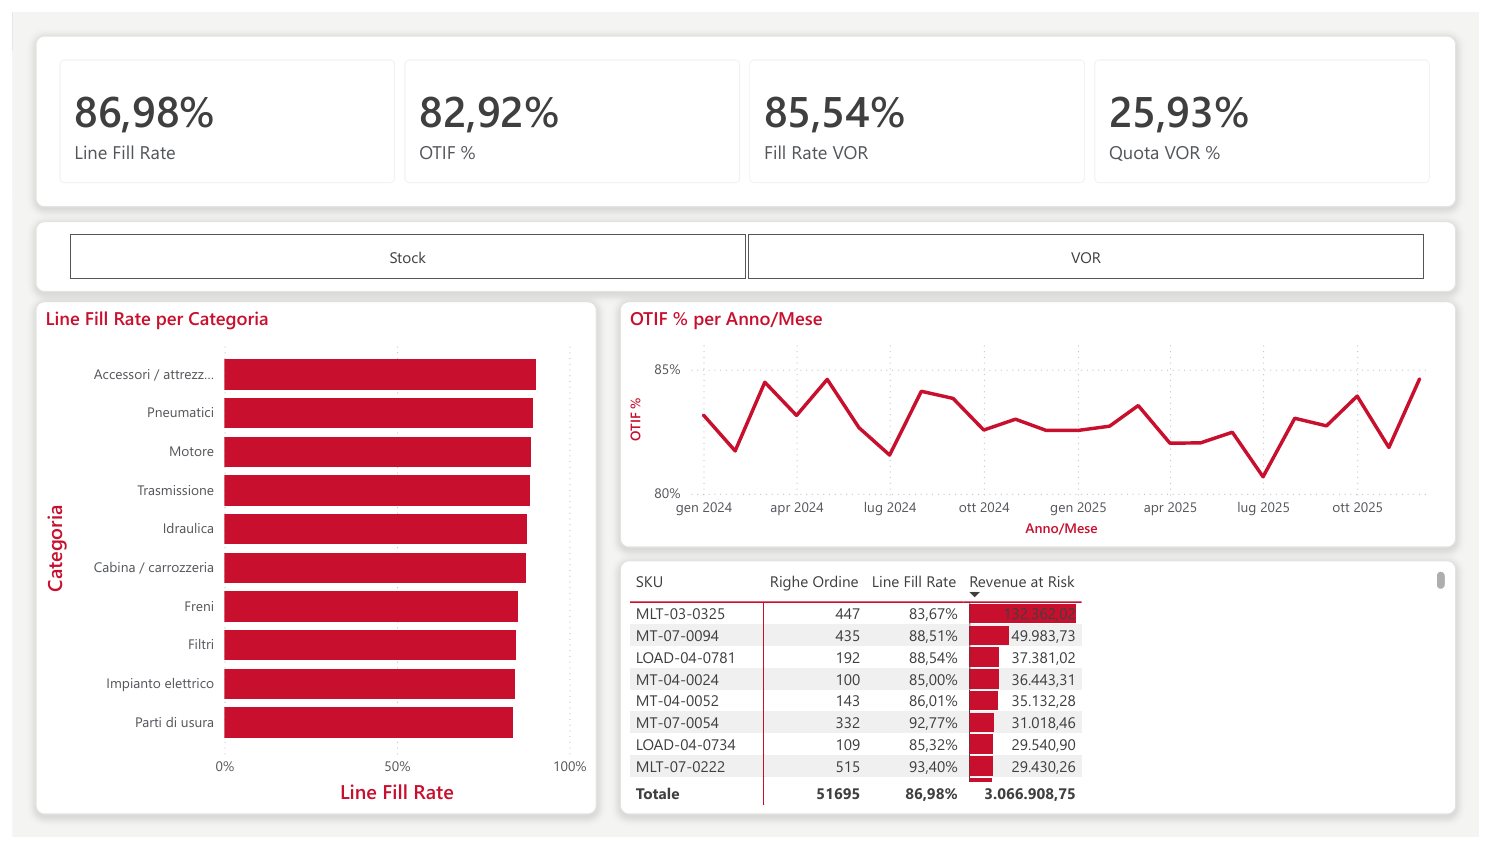

The page's visual inventory and layout, read from the dashboard file:
{"tool":"powerbi","page":{"name":"2 - Disponibilita","canvas":[1280,720],"ordinal":1},"visuals":[{"type":"cardVisual","fields":{"Data":["fact_parts_orders.Line Fill Rate","fact_parts_orders.OTIF %","fact_parts_orders.Fill Rate VOR","fact_parts_orders.Quota VOR %"]},"box":[20,20,1240,150],"z":0},{"type":"clusteredBarChart","fields":{"Category":["dim_part_category.Categoria"],"Y":["fact_parts_orders.Line Fill Rate"]},"box":[20,252,490,448],"z":1000},{"type":"lineChart","fields":{"Category":["dim_date.AnnoMese"],"Y":["fact_parts_orders.OTIF %"]},"box":[530,252,730,215],"z":2000},{"type":"pivotTable","fields":{"Rows":["dim_part.SKU"],"Values":["fact_parts_orders.Righe Ordine","fact_parts_orders.Line Fill Rate","fact_parts_orders.Revenue at Risk"]},"box":[530,478,730,222],"z":3000},{"type":"slicer","fields":{"Values":["fact_parts_orders.TipoOrdine"]},"box":[20,182,1240,62],"z":4000}]}

Visuals, with their boxes in screenshot pixels (x1, y1, x2, y2), scaled from the page's 1280x720 canvas onto the 1491x849 screenshot:
cardVisual - fact_parts_orders.Line Fill Rate x fact_parts_orders.OTIF %: 23 24 1468 200
clusteredBarChart - dim_part_category.Categoria x fact_parts_orders.Line Fill Rate: 23 297 594 825
lineChart - dim_date.AnnoMese x fact_parts_orders.OTIF %: 617 297 1468 551
pivotTable - dim_part.SKU x fact_parts_orders.Righe Ordine: 617 564 1468 825
slicer - fact_parts_orders.TipoOrdine: 23 215 1468 288
